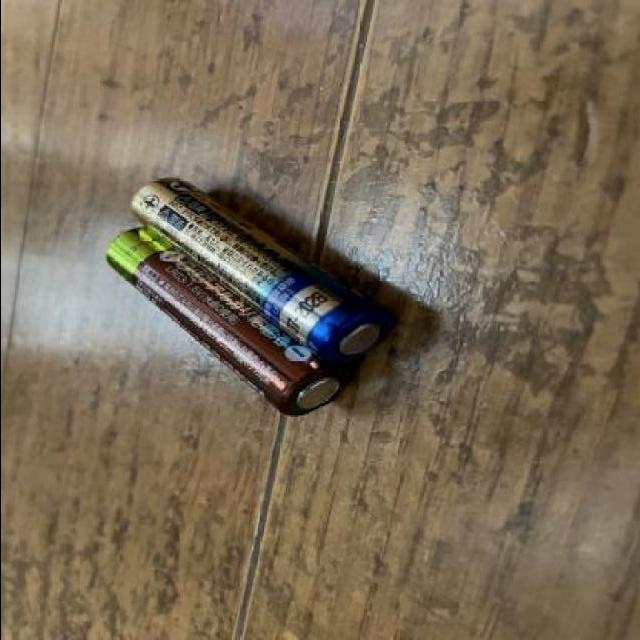AAA: (127, 176, 398, 367), (101, 223, 356, 420)
